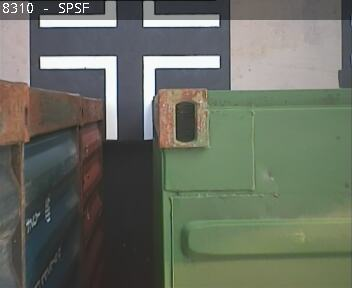groundmarker_1: (37, 55, 220, 141)
